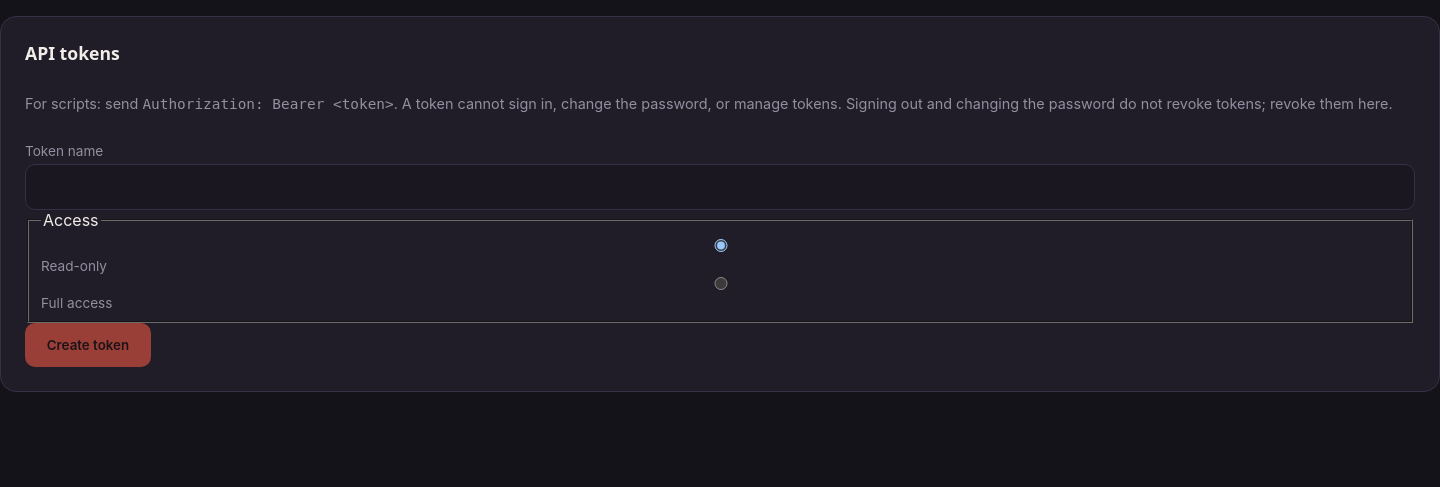
ApiTokens › shows a server refusal in the error banner
In the field labelled "Token name": coordinates (720, 187) left=25, top=164, right=1415, bottom=210, type "x"
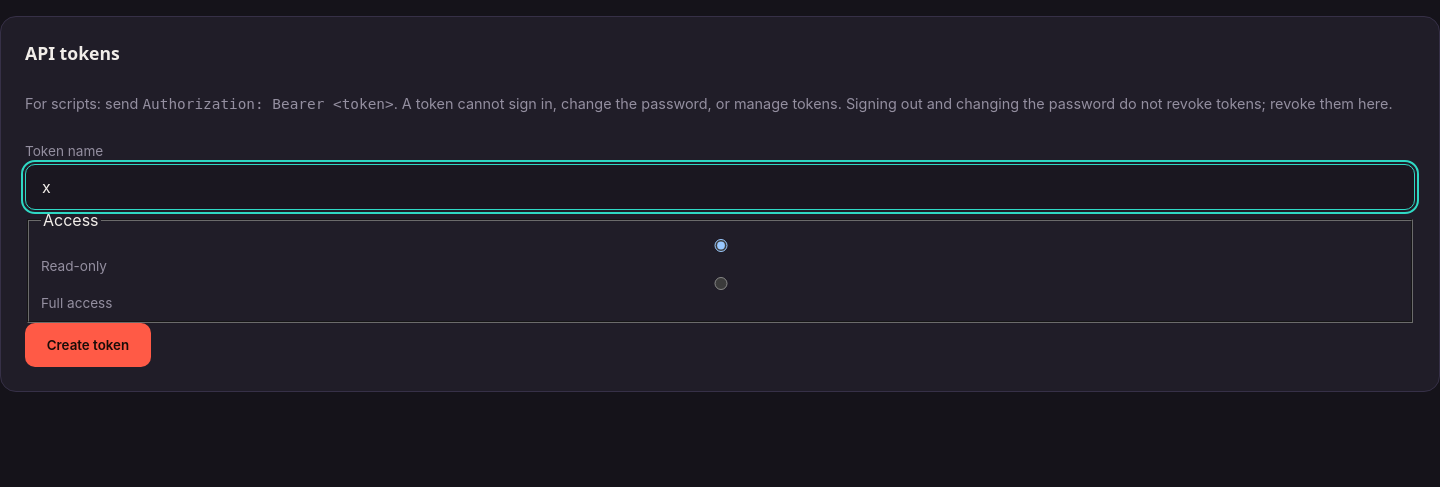
Click the button "Create token": coordinates (88, 345) left=25, top=323, right=151, bottom=367
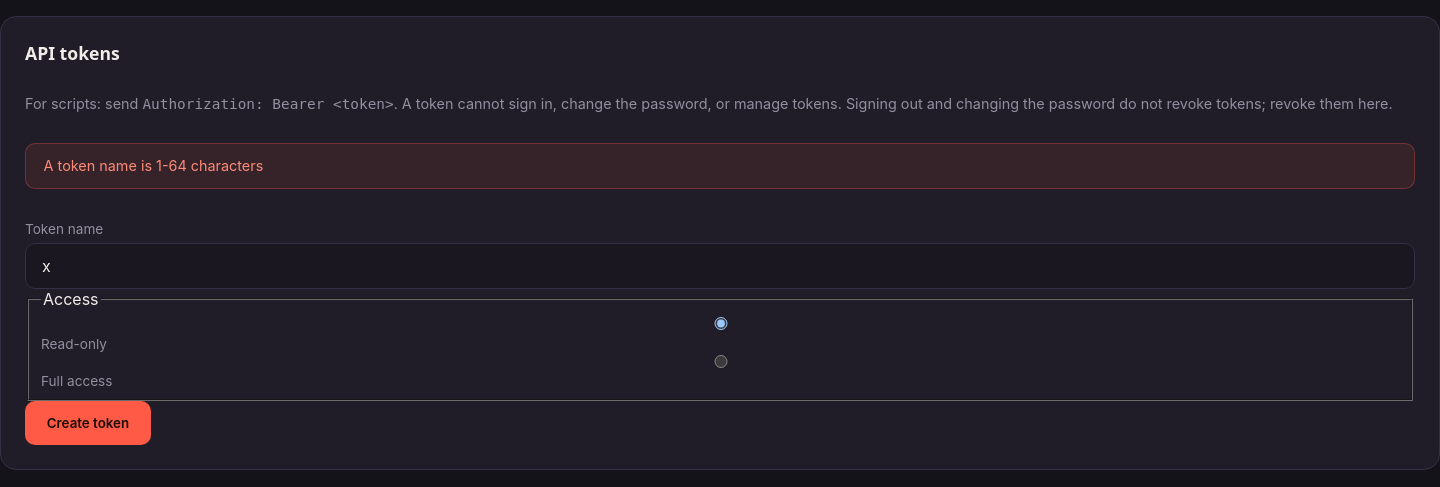
Expected: the message reads "A token name is 1-64 characters", left=44, top=157, right=263, bottom=174
